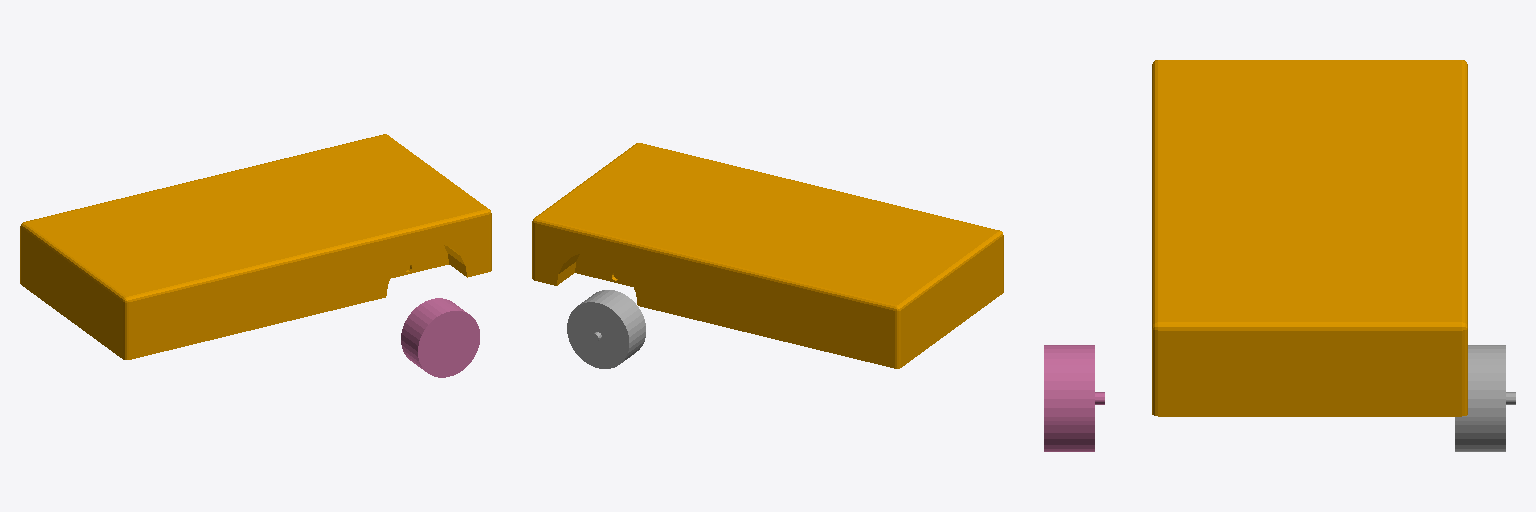
URDF robot description (differentialRobot):
<?xml version="1.0"?>
<robot name="differentialRobot">

  <link name="base_link">
    <visual>
      <geometry>
      <mesh
          filename="package://robot_description/meshes/base_link.STL" />
        <!--<box size="1.0 0.33 0.16"/>-->
      </geometry>
      <!--<material name="silver">
        <color rgba="0.75 0.75 0.75 1"/>
      </material>-->
    </visual>
    <collision>
      <geometry>
        <box size="1.0 0.33 0.16"/>
      </geometry>
    </collision>
    <inertial>
      <mass value="1.0"/>
      <inertia ixx="0.015" iyy="0.0375" izz="0.0375" ixy="0" ixz="0" iyz="0"/>
    </inertial>
  </link>

  <!--<link name="rear_caster">
    <visual>
      <geometry>
        <box size="0.1 0.1 0.3"/>
      </geometry>
      <material name="silver"/>
    </visual>
    <collision>
      <geometry>
        <box size="0.1 0.1 0.3"/>
      </geometry>
    </collision>
    <inertial>
      <mass value="0.1"/>
      <inertia ixx="0.00083" iyy="0.00083" izz="0.000167" ixy="0" ixz="0" iyz="0"/>
    </inertial>
  </link>

  <joint name="rear_caster_joint" type="continuous">
    <axis xyz="0 0 1"/>
    <parent link="base_link"/>
    <child link="rear_caster"/>
    <origin rpy="0 0 0" xyz="-1.3 0 0"/>
  </joint>

  <link name="rear_wheel">
    <visual>
      <geometry>
        <cylinder length="0.05" radius="0.035"/>
      </geometry>
      <material name="black"/>
    </visual>
    <collision>
      <geometry>
        <cylinder length="0.05" radius="0.035"/>
      </geometry>
    </collision>
    <inertial>
      <mass value="0.1"/>
      <inertia ixx="5.1458e-5" iyy="5.1458e-5" izz="6.125e-5" ixy="0" ixz="0" iyz="0"/>
    </inertial>
  </link>

  <joint name="rear_wheel_joint" type="continuous">
    <axis xyz="0 0 1"/>
    <parent link="rear_caster"/>
    <child link="rear_wheel"/>
    <origin rpy="-1.5708 0 0" xyz="0.05 0 -.15"/>
  </joint>-->

  <link
    name="base_c_link">
    <inertial>
      <origin
        xyz="5.5511E-17 0.002282 4.7425E-17"
        rpy="0 0 0" />
      <mass
        value="0.53523" />
      <inertia
        ixx="0.00052562"
        ixy="4.0805E-21"
        ixz="3.7312E-19"
        iyy="0.0012519"
        iyz="-9.5907E-21"
        izz="0.000729" />
    </inertial>
    <visual>
      <origin
        xyz="0 0 0"
        rpy="0 0 0" />
      <geometry>
        <mesh
          filename="package://robot_description/meshes/base_c_link.STL" />
      </geometry>
      <material
        name="">
        <color
          rgba="0.64706 0.61961 0.58431 1" />
      </material>
    </visual>
    <collision>
      <origin
        xyz="0 0 0"
        rpy="0 0 0" />
      <geometry>
        <mesh
          filename="package://robot_description/meshes/base_c_link.STL" />
      </geometry>
    </collision>
  </link>
  <joint
    name="base_c_joint"
    type="fixed">
    <origin
      xyz="-0.36 0 0.010238"
      rpy="1.5708 0 0" />
    <parent
      link="base_link" />
    <child
      link="base_c_link" />
    <axis
      xyz="0 0 0" />
  </joint>
  <link
    name="fork_c_link">
    <inertial>
      <origin
        xyz="-0.018778 -0.039352 7.4319E-09"
        rpy="0 0 0" />
      <mass
        value="0.34679" />
      <inertia
        ixx="0.00062753"
        ixy="-0.00012722"
        ixz="-1.2248E-10"
        iyy="0.00044283"
        iyz="-4.7433E-11"
        izz="0.00063004" />
    </inertial>
    <visual>
      <origin
        xyz="0 0 0"
        rpy="0 0 0" />
      <geometry>
        <mesh
          filename="package://robot_description/meshes/fork_c_link.STL" />
      </geometry>
      <material
        name="">
        <color
          rgba="0.64706 0.61961 0.58431 1" />
      </material>
    </visual>
    <collision>
      <origin
        xyz="0 0 0"
        rpy="0 0 0" />
      <geometry>
        <mesh
          filename="package://robot_description/meshes/fork_c_link.STL" />
      </geometry>
    </collision>
  </link>
  <joint
    name="fork_c_joint"
    type="continuous">
    <origin
      xyz="0 0 0"
      rpy="3.1416 -0.52774 3.1416" />
    <parent
      link="base_c_link" />
    <child
      link="fork_c_link" />
    <axis
      xyz="0 1 0" />
  </joint>
  <link
    name="pin_c_link">
    <inertial>
      <origin
        xyz="1.7486E-15 5.5511E-17 1.3878E-17"
        rpy="0 0 0" />
      <mass
        value="0.09369" />
      <inertia
        ixx="2.8522E-06"
        ixy="-1.9588E-20"
        ixz="-1.319E-19"
        iyy="3.6098E-05"
        iyz="-6.088E-22"
        izz="3.6098E-05" />
    </inertial>
    <visual>
      <origin
        xyz="0 0 0"
        rpy="0 0 0" />
      <geometry>
        <mesh
          filename="package://robot_description/meshes/pin_c_link.STL" />
      </geometry>
      <material
        name="">
        <color
          rgba="0.64706 0.61961 0.58431 1" />
      </material>
    </visual>
    <collision>
      <origin
        xyz="0 0 0"
        rpy="0 0 0" />
      <geometry>
        <mesh
          filename="package://robot_description/meshes/pin_c_link.STL" />
      </geometry>
    </collision>
  </link>
  <joint
    name="pin_c_joint"
    type="fixed">
    <origin
      xyz="-0.042 -0.11024 0"
      rpy="1.5646 1.5708 0" />
    <parent
      link="fork_c_link" />
    <child
      link="pin_c_link" />
    <axis
      xyz="0 0 0" />
  </joint>
  <link
    name="bearing_c_link">
    <inertial>
      <origin
        xyz="2.0262E-15 6.9389E-17 -1.6653E-16"
        rpy="0 0 0" />
      <mass
        value="0.024819" />
      <inertia
        ixx="1.8031E-06"
        ixy="2.1178E-20"
        ixz="1.6782E-20"
        iyy="8.266E-06"
        iyz="-7.2222E-35"
        izz="8.266E-06" />
    </inertial>
    <visual>
      <origin
        xyz="0 0 0"
        rpy="0 0 0" />
      <geometry>
        <mesh
          filename="package://robot_description/meshes/bearing_c_link.STL" />
      </geometry>
      <material
        name="">
        <color
          rgba="0.64706 0.61961 0.58431 1" />
      </material>
    </visual>
    <collision>
      <origin
        xyz="0 0 0"
        rpy="0 0 0" />
      <geometry>
        <mesh
          filename="package://robot_description/meshes/bearing_c_link.STL" />
      </geometry>
    </collision>
  </link>
  <joint
    name="bearing_c_joint"
    type="continuous">
    <origin
      xyz="0 0 0"
      rpy="-1.5646 0 0" />
    <parent
      link="pin_c_link" />
    <child
      link="bearing_c_link" />
    <axis
      xyz="1 0 0" />
  </joint>
  <link
    name="wheel_c_link">
    <inertial>
      <origin
        xyz="2.2204E-16 4.1633E-17 1.9706E-15"
        rpy="0 0 0" />
      <mass
        value="0.56957" />
      <inertia
        ixx="0.00097832"
        ixy="-2.8766E-20"
        ixz="-4.3368E-19"
        iyy="0.00097832"
        iyz="-2.981E-18"
        izz="0.0017885" />
    </inertial>
    <visual>
      <origin
        xyz="0 0 0"
        rpy="0 0 0" />
      <geometry>
        <mesh
          filename="package://robot_description/meshes/wheel_c_link.STL" />
      </geometry>
      <material
        name="">
        <color
          rgba="1 1 1 1" />
      </material>
    </visual>
    <collision>
      <origin
        xyz="0 0 0"
        rpy="0 0 0" />
      <geometry>
        <mesh
          filename="package://robot_description/meshes/wheel_c_link.STL" />
      </geometry>
    </collision>
  </link>
  <joint
    name="wheel_c_joint"
    type="continuous">
    <origin
      xyz="0 0 0"
      rpy="3.1416 1.5708 -3.1416" />
    <parent
      link="bearing_c_link" />
    <child
      link="wheel_c_link" />
    <axis
      xyz="0 0 1" />
  </joint>

   <!--#############################################
        ################ RIGHT WHEEL ################
        #############################################
    -->

  <link name="right_wheel">
    <visual>
      <geometry>
       <mesh
          filename="package://robot_description/meshes/right_wheel_link.STL" />
      </geometry>
     
    </visual>
    <collision>
      <geometry>
        <mesh
          filename="package://robot_description/meshes/right_wheel_link.STL" />
      </geometry>
    </collision>
    <inertial>
      <mass value="0.1"/>
      <inertia ixx="5.1458e-5" iyy="5.1458e-5" izz="6.125e-5" ixy="0" ixz="0" iyz="0"/>
    </inertial>
  </link>

  <joint name="right_wheel_joint" type="continuous">
    <axis xyz="0 0 1"/>
    <parent link="base_link"/>
    <child link="right_wheel"/>
    <origin rpy="-1.5708 0 0" xyz="0.2825 -0.325 -.15"/>
  </joint>

   <!--#############################################
       ################ LEFT WHEEL #################
       #############################################
    -->

  <link name="left_wheel">
    <visual>
    <origin xyz="0 0 0" rpy="3.1415 0 0"/>
      <geometry>
        <mesh
          filename="package://robot_description/meshes/left_wheel_link.STL" />
      </geometry>
    </visual>
    <collision>
    <origin xyz="0 0 0" rpy="3.1415 0 0"/>
      <geometry>
         <mesh
          filename="package://robot_description/meshes/left_wheel_link.STL" />
      </geometry>
    </collision>
    <inertial>
      <mass value="0.1"/>
      <inertia ixx="5.1458e-5" iyy="5.1458e-5" izz="6.125e-5" ixy="0" ixz="0" iyz="0"/>
    </inertial>
  </link>

  <joint name="left_wheel_joint" type="continuous">
    <axis xyz="0 0 1"/>
    <parent link="base_link"/>
    <child link="left_wheel"/>
    <origin rpy="1.5708 0 0" xyz="0.2825 0.325 -.15"/>
  </joint>

  

  <gazebo>
    <plugin name="differential_drive_controller" filename="libgazebo_ros_diff_drive.so">
      <leftJoint>left_wheel_joint</leftJoint>
      <rightJoint>right_wheel_joint</rightJoint>
      <robotBaseFrame>base_link</robotBaseFrame>
      <wheelSeparation>0.25</wheelSeparation>
      <wheelDiameter>0.07</wheelDiameter>
      <publishWheelJointState>true</publishWheelJointState>
    </plugin>
  </gazebo>

</robot>

--- Render facts (derived) ---
The picture shows the robot from 3 angles, left to right: view 1: azimuth 30°, elevation 25°; view 2: azimuth 150°, elevation 25°; view 3: azimuth 270°, elevation 25°; orthographic projection.
Robot: differentialRobot — 8 links, 7 joints (5 continuous, 2 fixed); root link base_link; default pose: all joints at 0.
Links seen in each view (by area): view 1: base_link, right_wheel; view 2: base_link, left_wheel; view 3: base_link, right_wheel, left_wheel.
Boxes of the visible links, left/top/right/bottom form: base_link: left=20, top=134, right=491, bottom=359; right_wheel: left=401, top=298, right=479, bottom=377; base_link: left=532, top=143, right=1003, bottom=368; left_wheel: left=567, top=290, right=645, bottom=368; base_link: left=1152, top=60, right=1467, bottom=416; right_wheel: left=1044, top=345, right=1104, bottom=451; left_wheel: left=1455, top=345, right=1515, bottom=451.
Size in the robot's own frame: 1 by 0.745 by 0.3149 metres.
8 mesh visuals loaded from 8 distinct referenced files (8 binary STL).